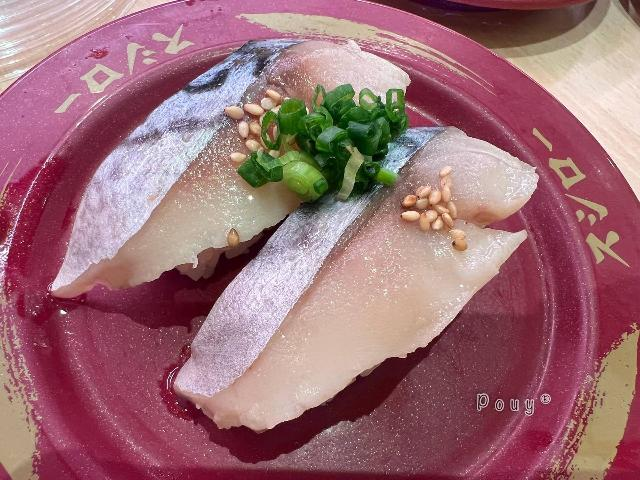janred: (5, 31, 640, 477), (447, 0, 606, 24)
